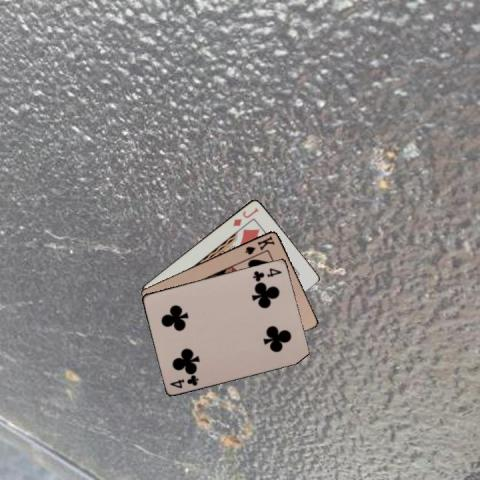4c: (167, 372, 200, 390), (250, 265, 283, 282)
Jd: (230, 205, 260, 227)
Ks: (242, 233, 277, 256)
